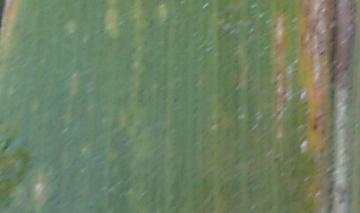tarspot: (1, 1, 11, 30), (1, 136, 15, 151), (311, 121, 318, 134)
